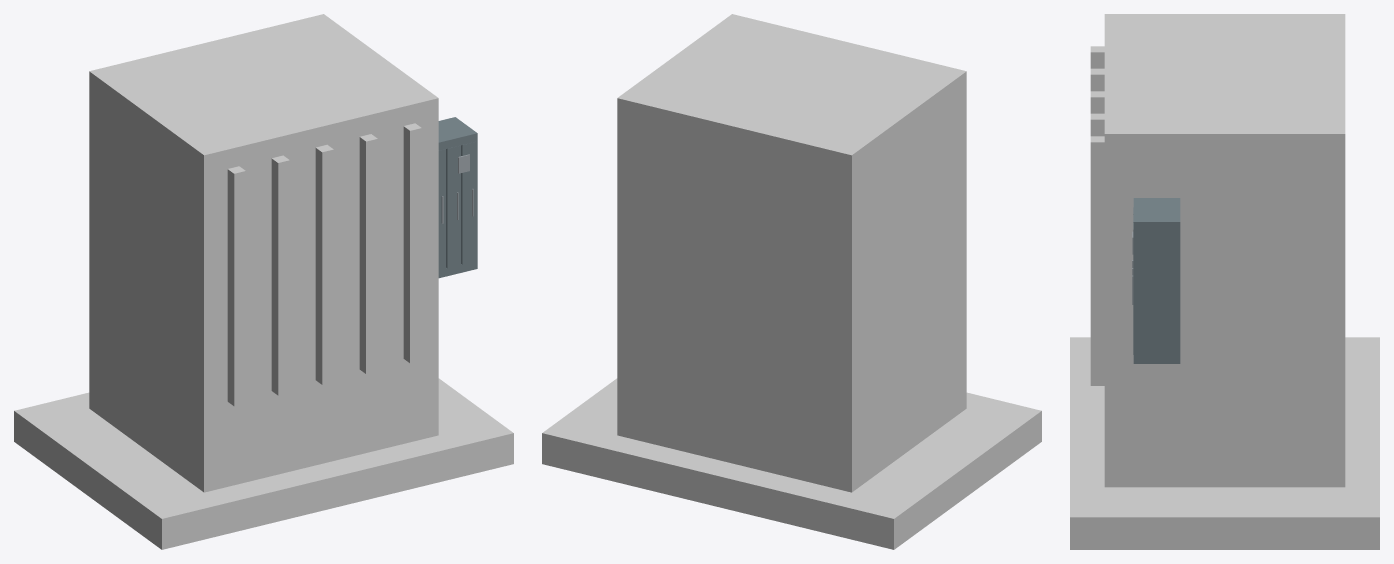
3 renders of one model, left to right at view 1: azimuth 30°, elevation 25°; view 2: azimuth 150°, elevation 25°; view 3: azimuth 270°, elevation 25°, orthographic. The views are drawn at different scales.
Parts seen in each view (by area): view 1: housing_3, base_frame_1, filter_element_4, filter_element_5, filter_element_6, filter_element_8, filter_element_7, g0.005, g0.003, g0.007, g0.008; view 2: housing_3, base_frame_1; view 3: housing_3, base_frame_1, g0.010, filter_element_8, g0.008.
Boxes of the visible parts, box(x1,y1,x2,y2) form: housing_3: box(89, 14, 438, 492); base_frame_1: box(14, 378, 513, 549); filter_element_4: box(227, 166, 245, 406); filter_element_5: box(271, 155, 289, 395); filter_element_6: box(315, 144, 333, 384); filter_element_8: box(403, 123, 421, 363); filter_element_7: box(359, 134, 377, 373); g0.005: box(446, 145, 461, 268); g0.003: box(461, 142, 476, 264); g0.007: box(438, 149, 446, 270); g0.008: box(438, 118, 477, 150); housing_3: box(617, 14, 966, 492); base_frame_1: box(542, 378, 1041, 549); housing_3: box(1104, 14, 1345, 487); base_frame_1: box(1070, 337, 1379, 549); g0.010: box(1133, 220, 1180, 363); filter_element_8: box(1090, 136, 1104, 385); g0.008: box(1133, 199, 1177, 220).
Bounding box in the file's own units: 2.2 × 2.2 × 1.6.
